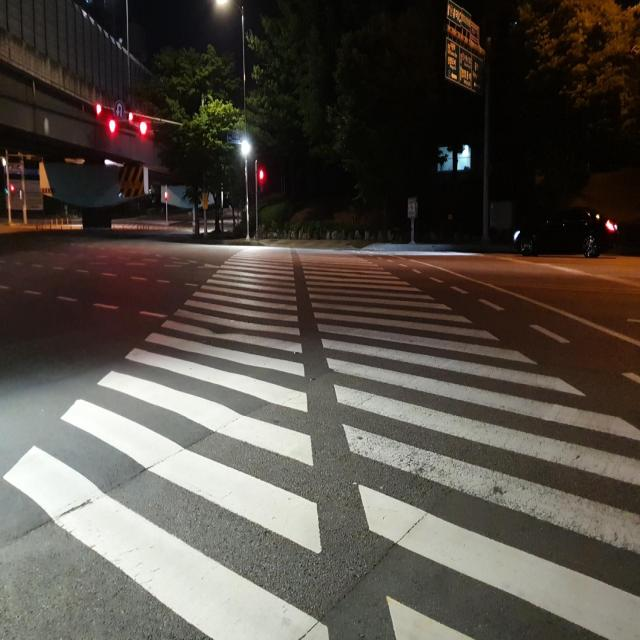빨간불: (257, 160, 266, 186)
횡단보도: (1, 243, 640, 640)
